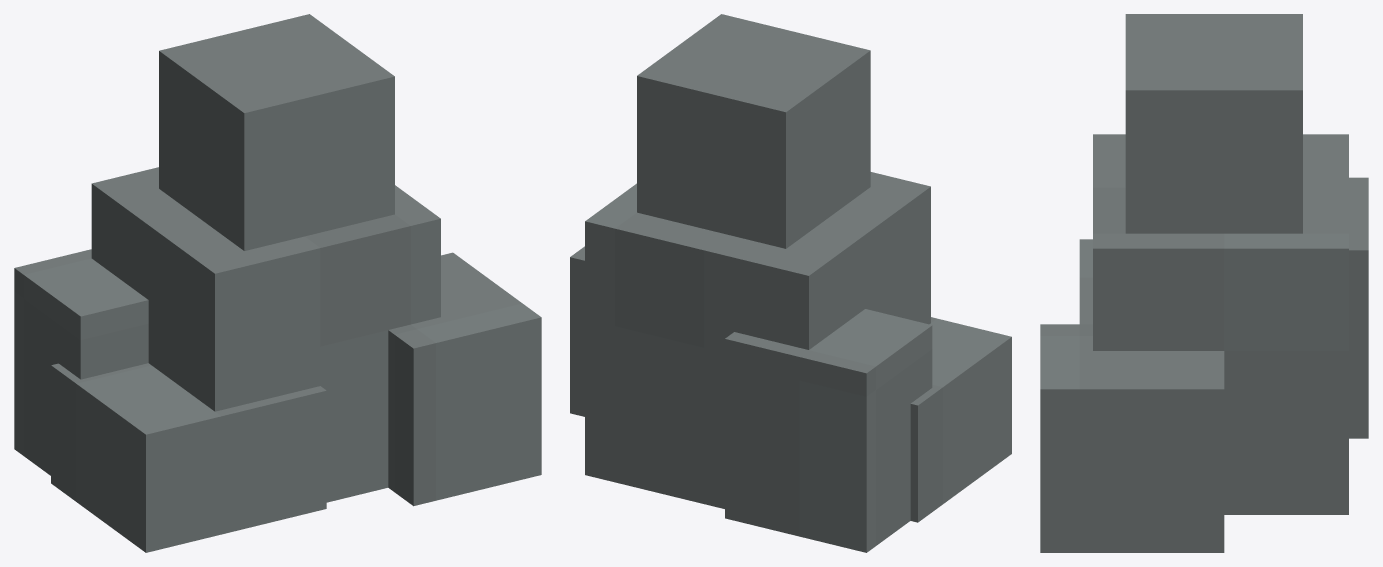
Rendered from SM_VMF_Nature_Rock_Large.fbx.
The picture shows the model from 3 angles, left to right: view 1: azimuth 30°, elevation 25°; view 2: azimuth 150°, elevation 25°; view 3: azimuth 270°, elevation 25°; orthographic projection. The views are drawn at different scales.
Visible parts, largest first — view 1: SM_VMF_Nature_Rock_Large_Stone; view 2: SM_VMF_Nature_Rock_Large_Stone; view 3: SM_VMF_Nature_Rock_Large_Stone.
Boxes of the visible parts, x1,y1,x2,y2 form: SM_VMF_Nature_Rock_Large_Stone: [14, 14, 541, 552]; SM_VMF_Nature_Rock_Large_Stone: [570, 14, 1011, 552]; SM_VMF_Nature_Rock_Large_Stone: [1040, 14, 1368, 552].
Size of the model in its own units: 88 by 88 by 64.
1 material, 1 textured.
